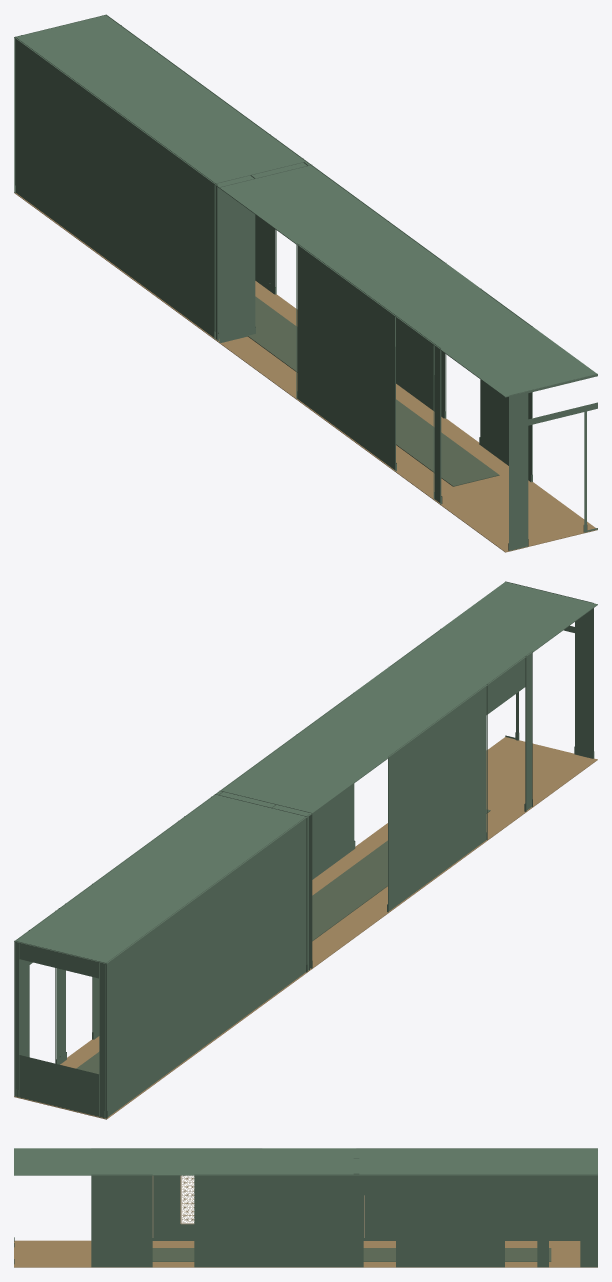
File: corridor-1.glb
3 renders of one model, top to bottom at view 1: azimuth 30°, elevation 25°; view 2: azimuth 150°, elevation 25°; view 3: azimuth 270°, elevation 25°, orthographic. The views are drawn at different scales.
Visible parts, largest first — view 1: DESIGN | corridor removable wall finish, DESIGN | corridor ceiling finish, DESIGN | corridor floor finish, DESIGN | Garden long green textile; view 2: DESIGN | corridor removable wall finish, DESIGN | corridor ceiling finish, DESIGN | corridor floor finish, DESIGN | Garden long green textile; view 3: DESIGN | corridor removable wall finish, DESIGN | corridor ceiling finish, DESIGN | corridor floor finish, DESIGN | Garden green panelled wall, DESIGN | Garden green panelled wall.001, DESIGN | Garden long green textile, DESIGN | Garden gallery hemp-leaf light diffuse backing, DESIGN | Kumiko | Garden gallery hemp-leaf light.
Boxes of the visible parts, box(x1,y1,x2,y2) form: DESIGN | corridor removable wall finish: box(14, 14, 597, 550); DESIGN | corridor ceiling finish: box(14, 15, 597, 397); DESIGN | corridor floor finish: box(14, 192, 597, 552); DESIGN | Garden long green textile: box(247, 296, 499, 486); DESIGN | corridor removable wall finish: box(14, 581, 594, 1118); DESIGN | corridor ceiling finish: box(14, 582, 597, 964); DESIGN | corridor floor finish: box(14, 737, 597, 1119); DESIGN | Garden long green textile: box(76, 809, 490, 1074); DESIGN | corridor removable wall finish: box(14, 1148, 597, 1267); DESIGN | corridor ceiling finish: box(14, 1148, 597, 1175); DESIGN | corridor floor finish: box(14, 1240, 597, 1267); DESIGN | Garden green panelled wall: box(363, 1195, 580, 1239); DESIGN | Garden green panelled wall.001: box(152, 1175, 194, 1239); DESIGN | Garden long green textile: box(152, 1248, 551, 1261); DESIGN | Garden gallery hemp-leaf light diffuse backing: box(181, 1175, 194, 1223); DESIGN | Kumiko | Garden gallery hemp-leaf light: box(180, 1175, 194, 1224).
Bounding box in the file's own units: 1.7 × 2.74 × 15.63.
